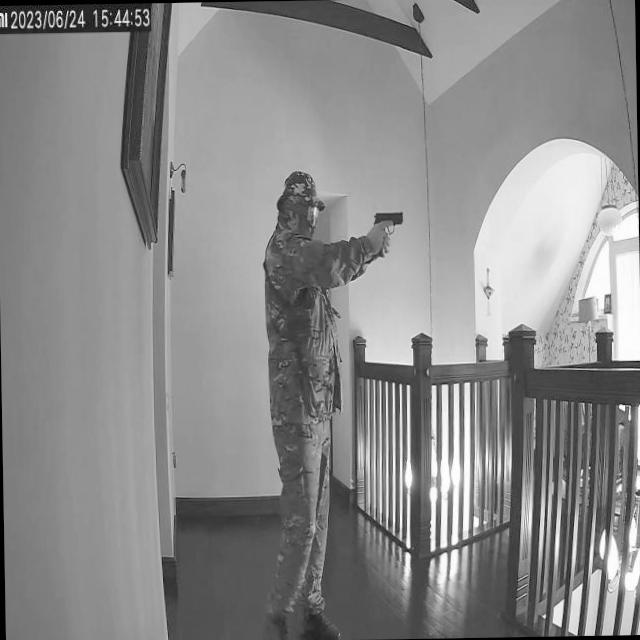gun: (371, 208, 406, 249)
person with a gun: (258, 165, 418, 640)
